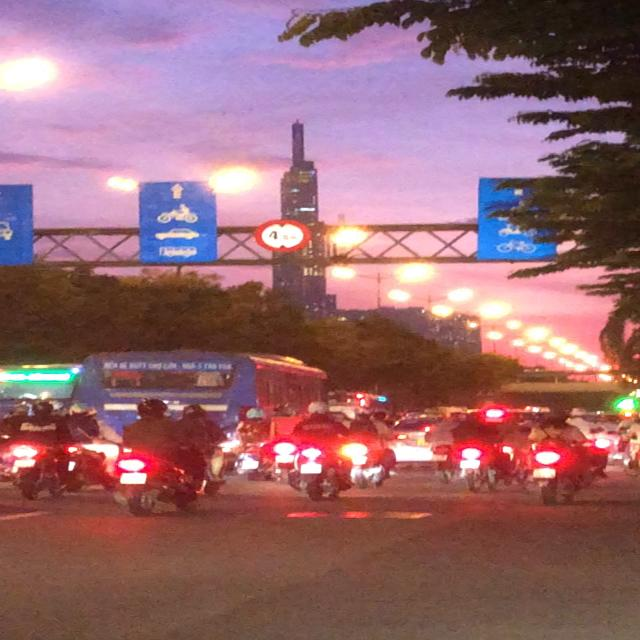Bien bao han che chieu cao: (254, 214, 314, 260)
